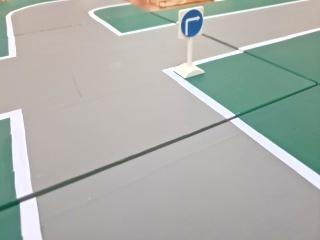right: (174, 6, 209, 41)
